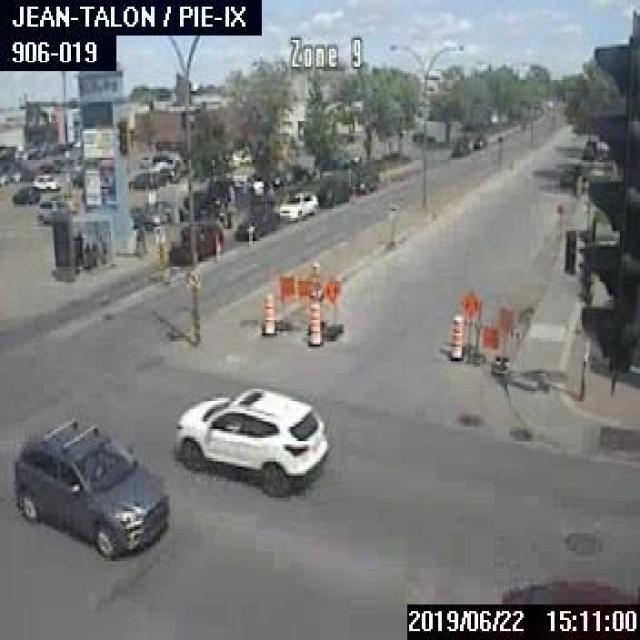construction: (274, 261, 344, 340), (458, 286, 516, 374), (304, 298, 321, 345), (447, 312, 463, 359), (259, 292, 274, 332)
pedestrian: (72, 230, 83, 268)
vehicle: (12, 419, 166, 556), (173, 386, 327, 494), (168, 218, 225, 263), (233, 206, 278, 236), (275, 191, 317, 219), (34, 196, 67, 224), (317, 178, 350, 206), (128, 204, 166, 226), (126, 169, 158, 187), (10, 182, 37, 202), (352, 172, 378, 192), (32, 173, 59, 189), (560, 164, 576, 184), (451, 140, 466, 156), (580, 142, 594, 158), (471, 135, 482, 147)
